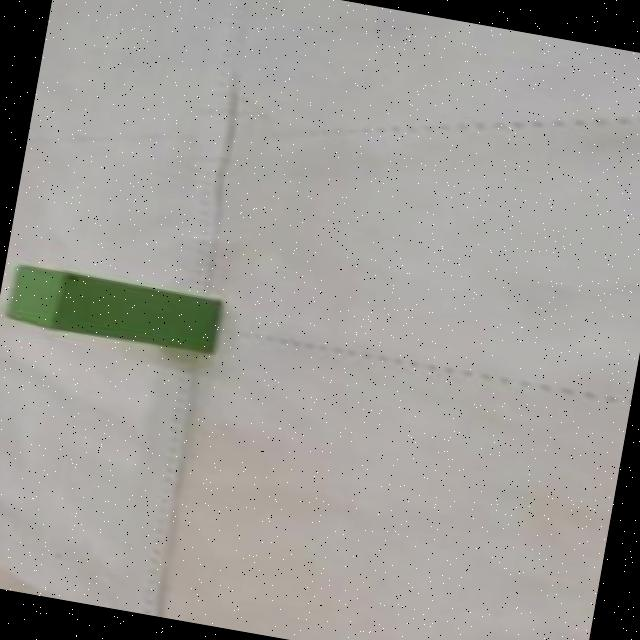greenbox: (8, 262, 221, 353)
